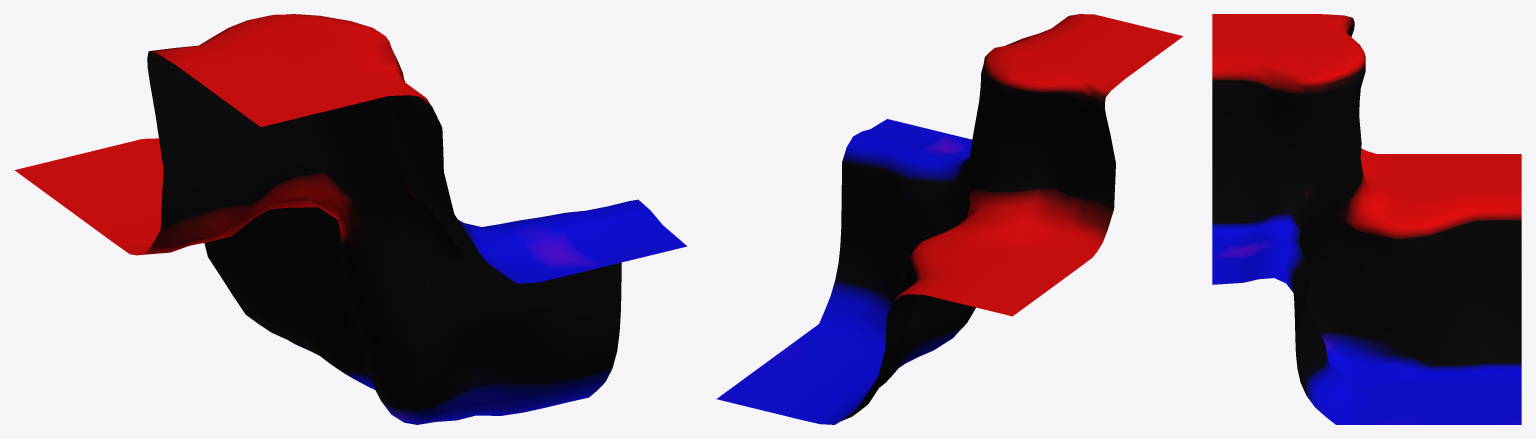
Rendered from WaterFallCliff00B 2M.fbx.
3 renders of one model, left to right at view 1: azimuth 30°, elevation 25°; view 2: azimuth 150°, elevation 25°; view 3: azimuth 270°, elevation 25°, orthographic. The views are drawn at different scales.
Visible parts, largest first — view 1: WaterFallCliff00B 2M; view 2: WaterFallCliff00B 2M; view 3: WaterFallCliff00B 2M.
Boxes of the visible parts, x1,y1,x2,y2 form: WaterFallCliff00B 2M: (14,14,687,424); WaterFallCliff00B 2M: (716,14,1183,424); WaterFallCliff00B 2M: (1212,14,1521,424).
Bounding box in the file's own units: 2 × 2 × 2.
